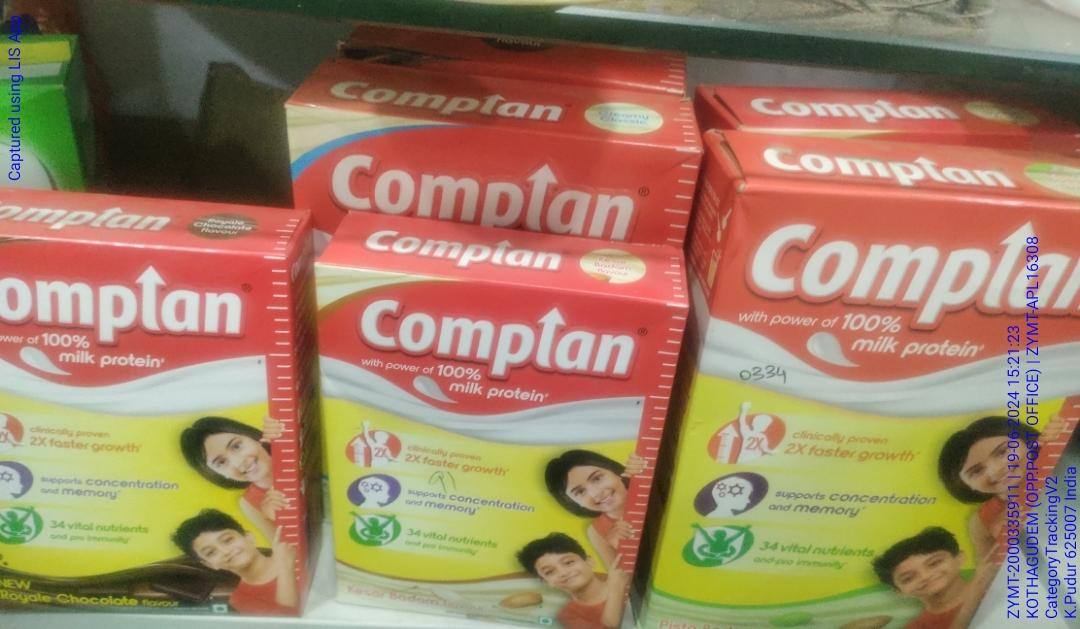COMPLAN_KESAR_BADAM_200_GMS_PACK: (317, 268, 637, 628)
COMPLAN_PISTA_BADAM_500_GMS_PACK: (672, 192, 1080, 629)
